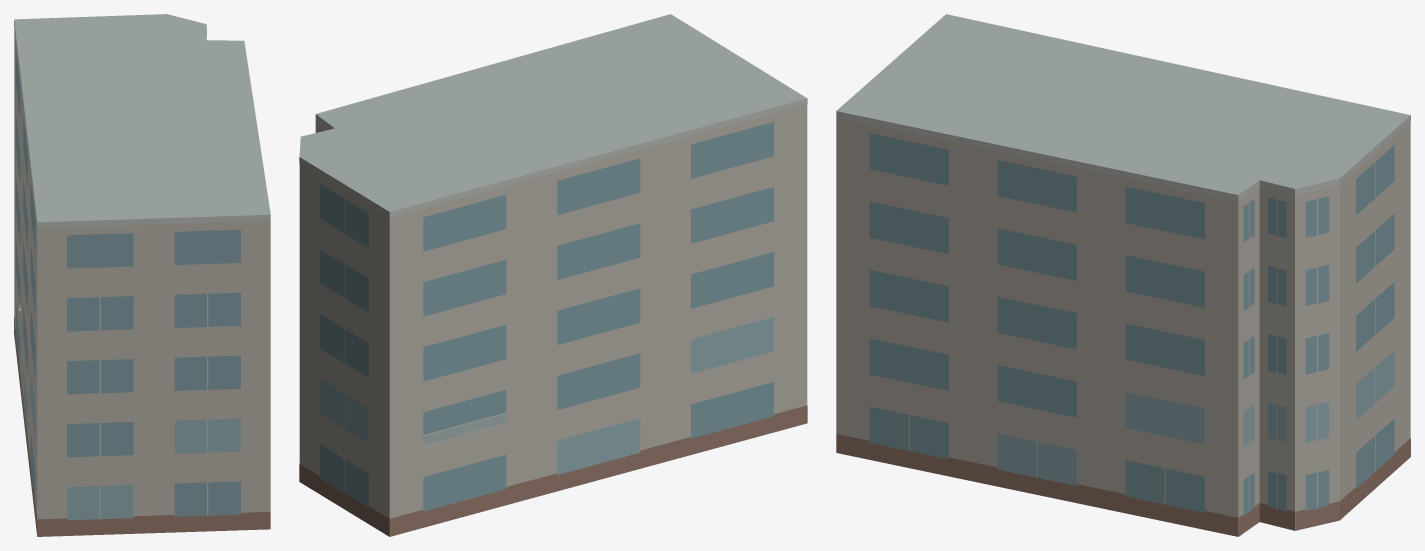
The model's file is survey-upis-32458173.glb.
3 views of the same model, side by side, from view 1: azimuth 30°, elevation 25°; view 2: azimuth 150°, elevation 25°; view 3: azimuth 270°, elevation 25° (orthographic). The views are drawn at different scales.
Visible parts, largest first — view 1: survey-upis-32458173.tmp; view 2: survey-upis-32458173.tmp; view 3: survey-upis-32458173.tmp.
Part boxes in pixels (x1,y1,x2,y2): survey-upis-32458173.tmp: (14,14,270,536); survey-upis-32458173.tmp: (299,14,807,536); survey-upis-32458173.tmp: (836,14,1410,536).
Bounding box in the file's own units: 14.78 × 13 × 19.81.
